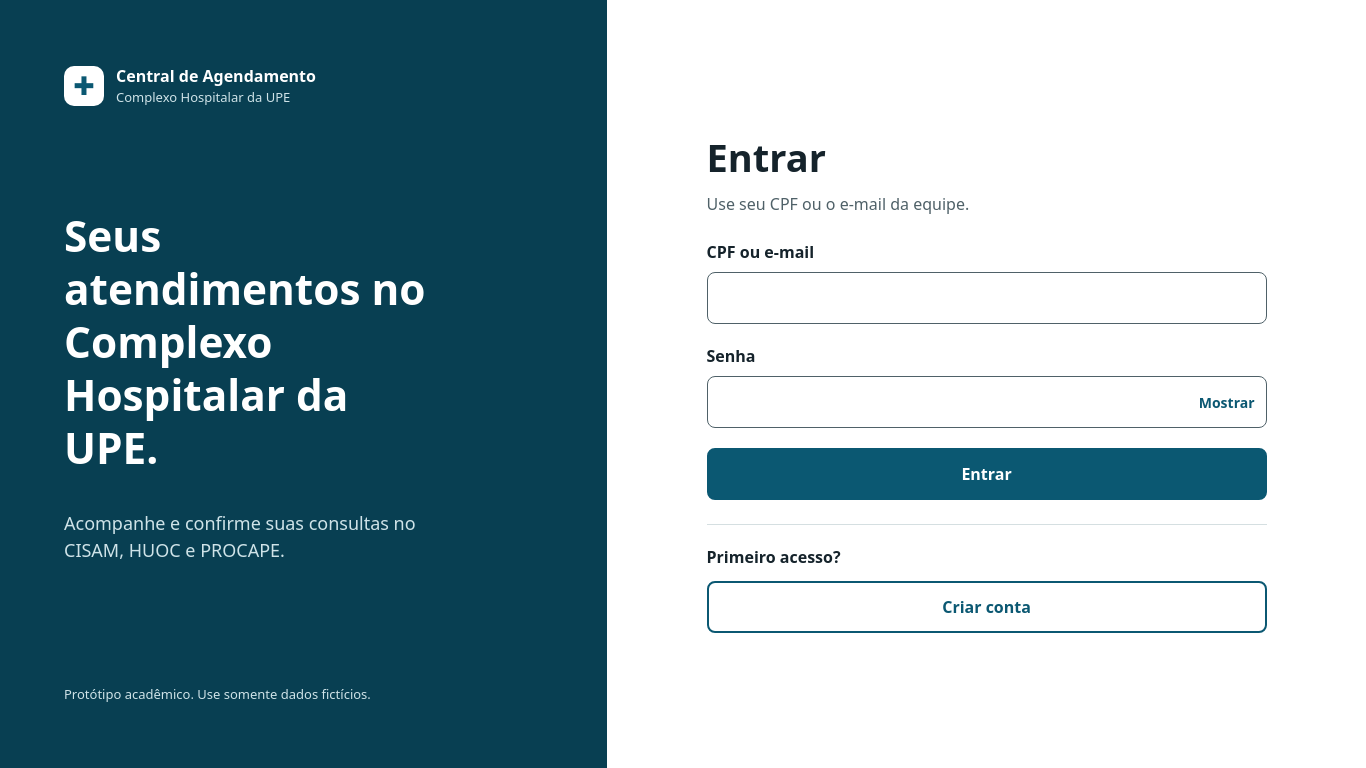
Test: ADR-003 — entrar › envia CPF sem máscara e senha sem alterações; login normal com trocar_senha null
In the field labelled "CPF ou e-mail": (986, 298) [706, 272, 1266, 324], type "00000000191"
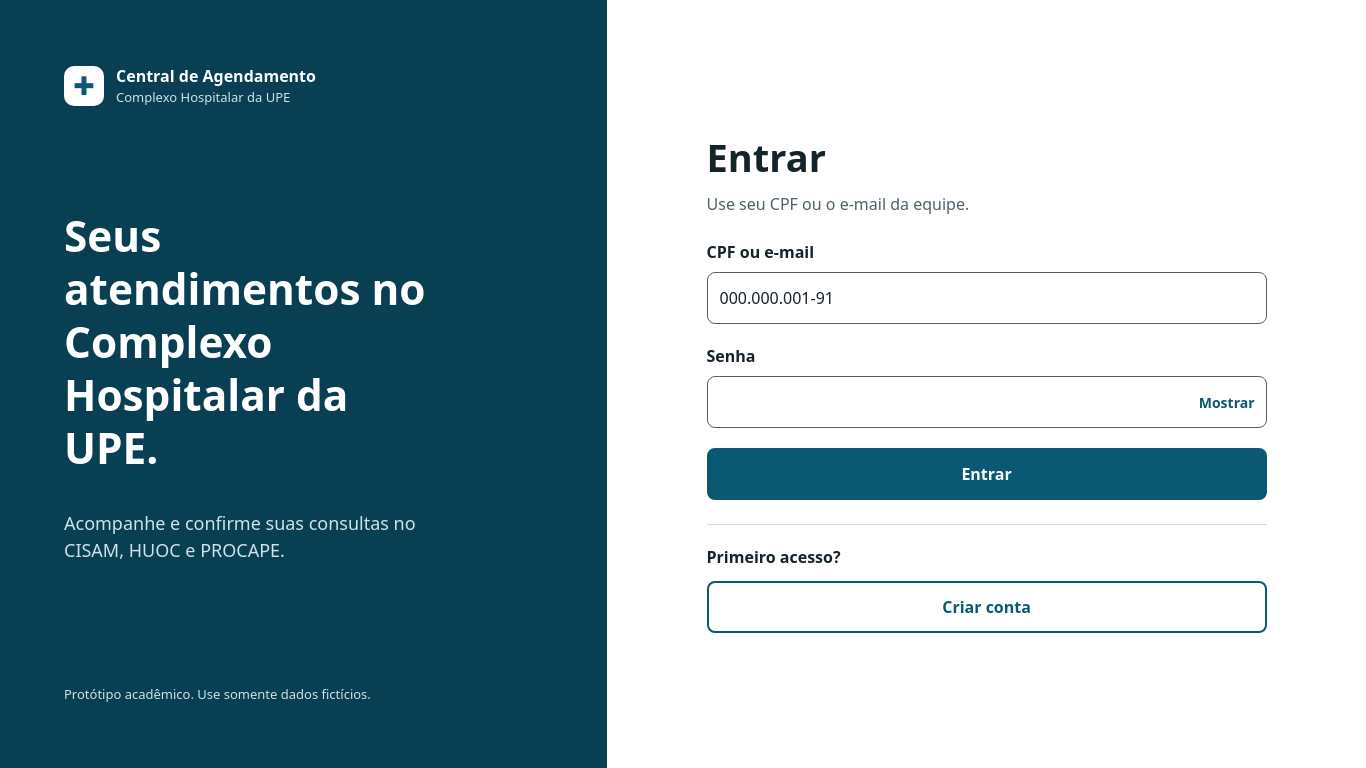
In the password field labelled "Senha": (986, 402) [706, 376, 1266, 428], type " Sintetica!123 "
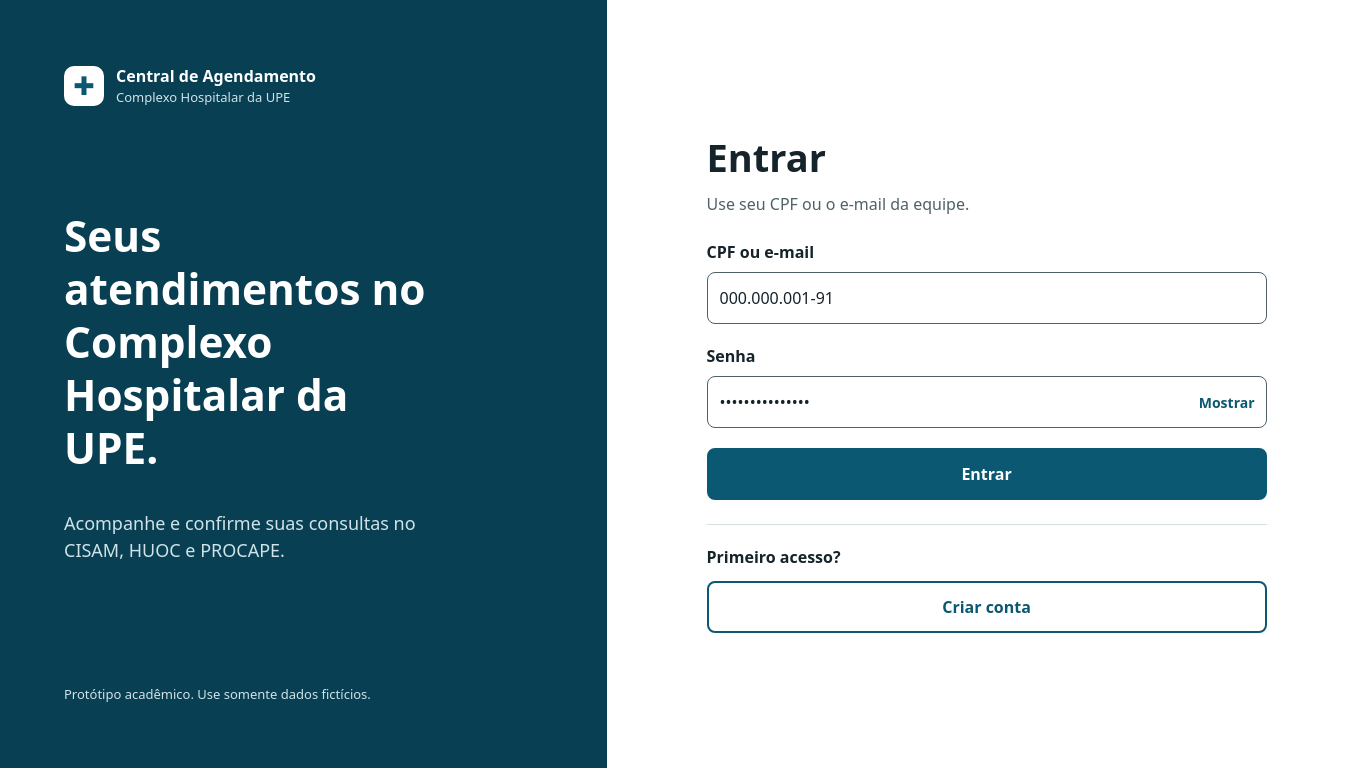
Click the button "Entrar": (986, 474) [706, 448, 1266, 500]
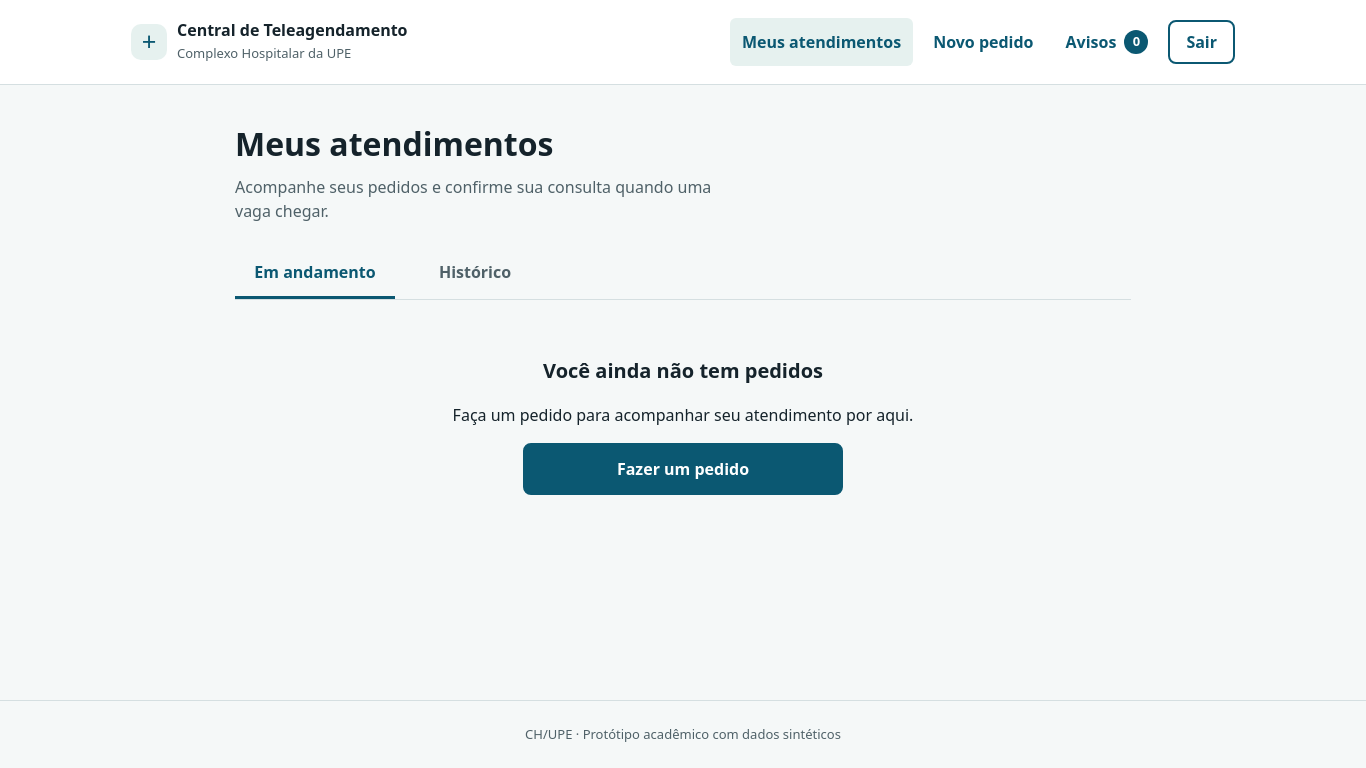
expect the element named "Área do paciente" is shown: met, box [203, 85, 1163, 700]
